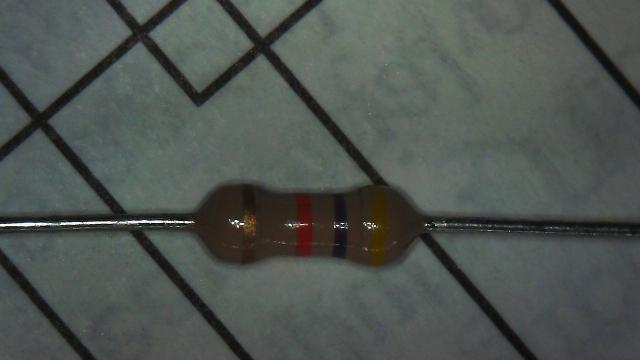gold: (241, 184, 256, 262)
orange: (296, 194, 312, 256)
resistor: (177, 168, 430, 275)
violet: (332, 195, 348, 258)
yellow: (368, 186, 387, 264)
